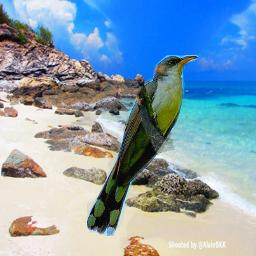Cuckoo: (87, 55, 198, 236)
